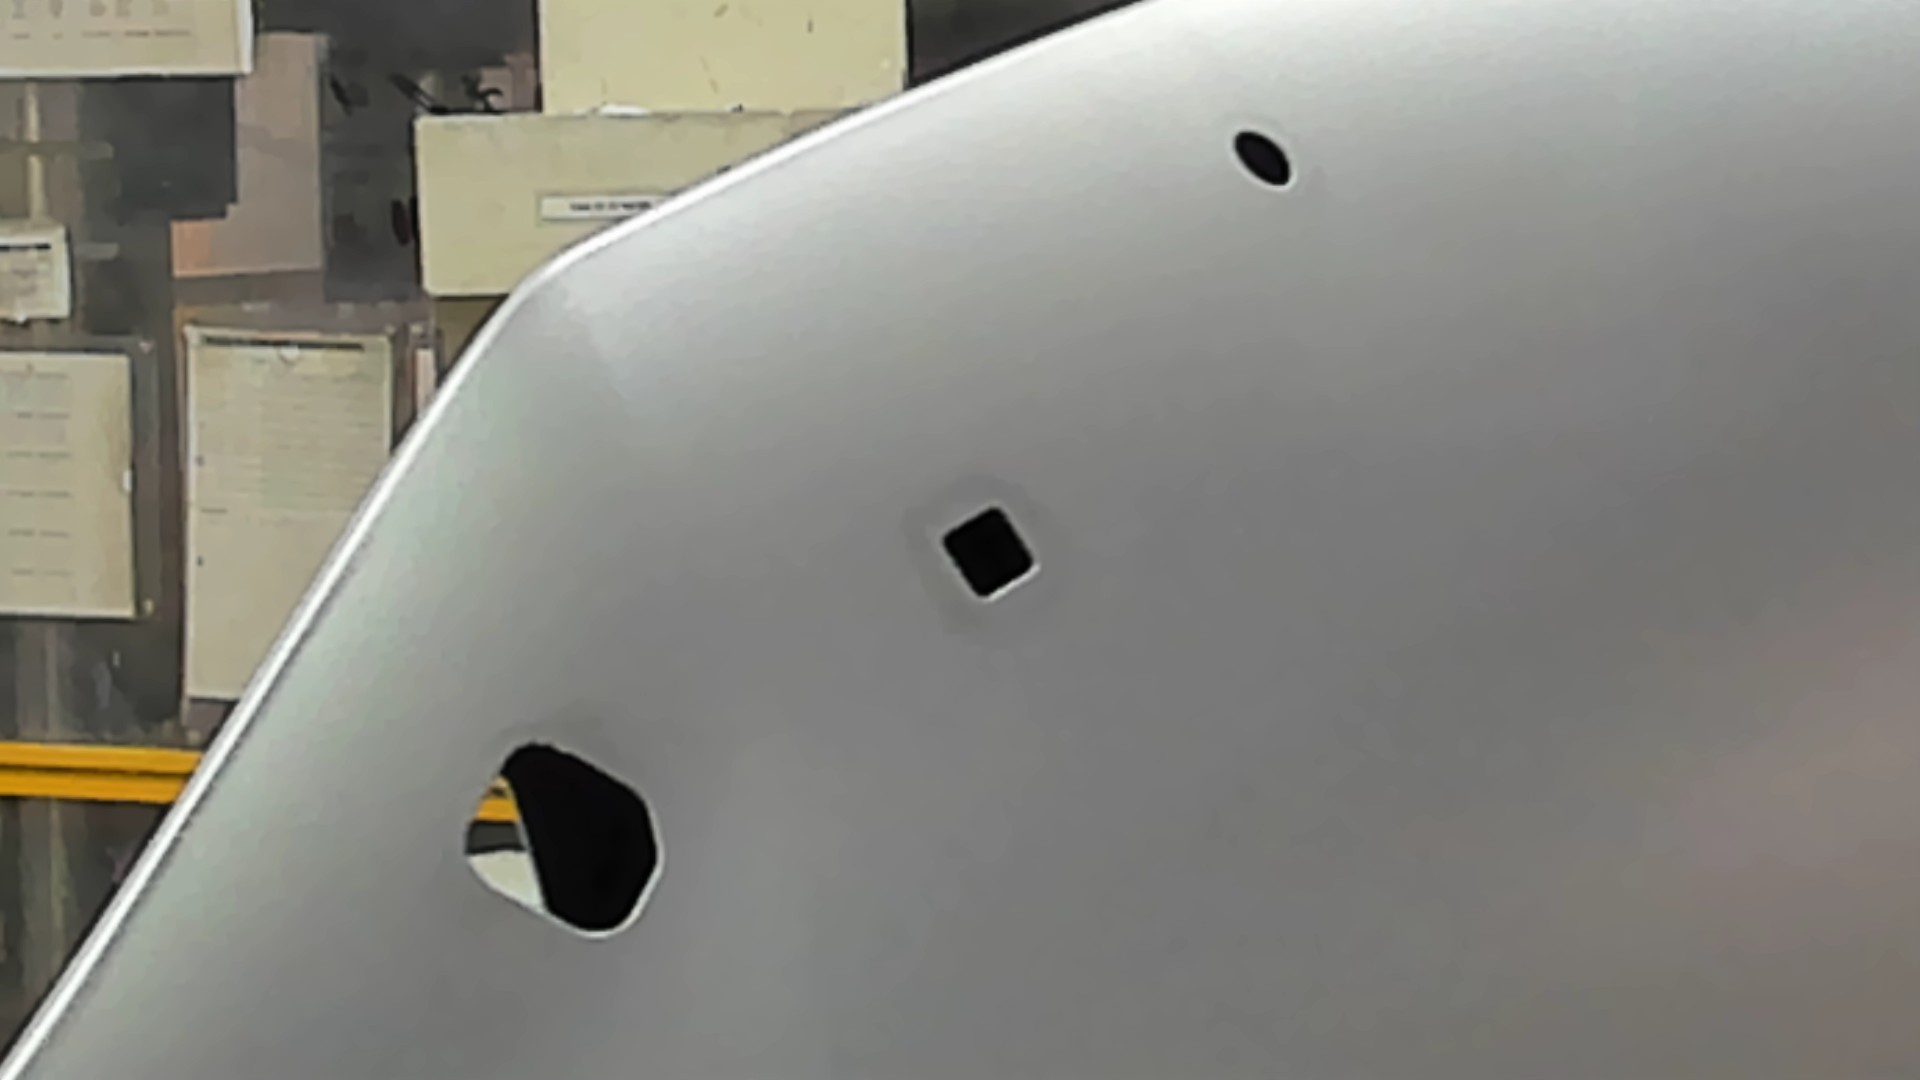chico: (1226, 127, 1298, 190)
grande: (460, 738, 665, 938)
mediano: (939, 498, 1040, 604)
